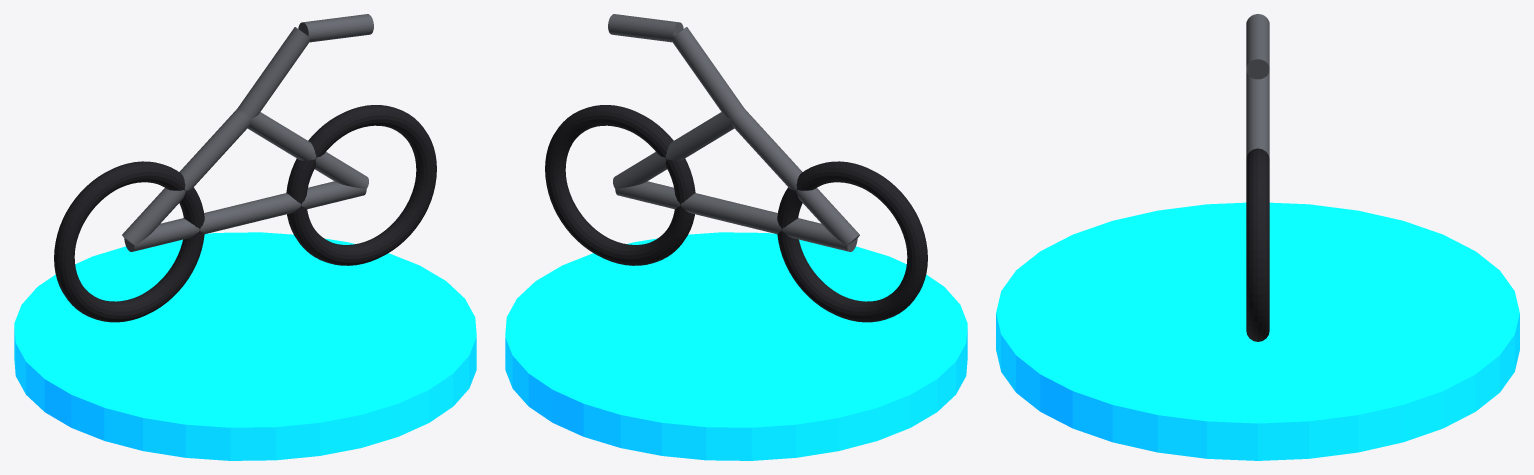
Rendered from french_bicycle.glb.
The picture shows the model from 3 angles, left to right: view 1: azimuth 30°, elevation 25°; view 2: azimuth 150°, elevation 25°; view 3: azimuth 270°, elevation 25°; orthographic projection. The views are drawn at different scales.
Visible parts, largest first — view 1: 10_09_Popular_French_Bicycle_ROOT_base, 10_09_Popular_French_Bicycle_part_01, 10_09_Popular_French_Bicycle_part_02, 10_09_Popular_French_Bicycle_part_05, 10_09_Popular_French_Bicycle_part_03, 10_09_Popular_French_Bicycle_part_04, 10_09_Popular_French_Bicycle_part_06, 10_09_Popular_French_Bicycle_part_07; view 2: 10_09_Popular_French_Bicycle_ROOT_base, 10_09_Popular_French_Bicycle_part_01, 10_09_Popular_French_Bicycle_part_02, 10_09_Popular_French_Bicycle_part_05, 10_09_Popular_French_Bicycle_part_03, 10_09_Popular_French_Bicycle_part_04, 10_09_Popular_French_Bicycle_part_06, 10_09_Popular_French_Bicycle_part_07; view 3: 10_09_Popular_French_Bicycle_ROOT_base, 10_09_Popular_French_Bicycle_part_02, 10_09_Popular_French_Bicycle_part_04, 10_09_Popular_French_Bicycle_part_07.
Boxes of the visible parts, bbox=[...] form: 10_09_Popular_French_Bicycle_ROOT_base: bbox=[14, 232, 476, 460]; 10_09_Popular_French_Bicycle_part_01: bbox=[54, 161, 204, 322]; 10_09_Popular_French_Bicycle_part_02: bbox=[286, 105, 436, 265]; 10_09_Popular_French_Bicycle_part_05: bbox=[124, 181, 366, 251]; 10_09_Popular_French_Bicycle_part_03: bbox=[122, 108, 250, 245]; 10_09_Popular_French_Bicycle_part_04: bbox=[247, 112, 368, 188]; 10_09_Popular_French_Bicycle_part_06: bbox=[237, 27, 309, 118]; 10_09_Popular_French_Bicycle_part_07: bbox=[298, 14, 373, 42]; 10_09_Popular_French_Bicycle_ROOT_base: bbox=[505, 232, 967, 460]; 10_09_Popular_French_Bicycle_part_01: bbox=[777, 161, 927, 322]; 10_09_Popular_French_Bicycle_part_02: bbox=[545, 105, 695, 265]; 10_09_Popular_French_Bicycle_part_05: bbox=[615, 181, 857, 251]; 10_09_Popular_French_Bicycle_part_03: bbox=[731, 108, 859, 245]; 10_09_Popular_French_Bicycle_part_04: bbox=[613, 112, 734, 188]; 10_09_Popular_French_Bicycle_part_06: bbox=[672, 27, 744, 118]; 10_09_Popular_French_Bicycle_part_07: bbox=[608, 14, 683, 42]; 10_09_Popular_French_Bicycle_ROOT_base: bbox=[996, 202, 1519, 460]; 10_09_Popular_French_Bicycle_part_02: bbox=[1246, 148, 1269, 341]; 10_09_Popular_French_Bicycle_part_04: bbox=[1246, 72, 1269, 158]; 10_09_Popular_French_Bicycle_part_07: bbox=[1246, 14, 1269, 79].
Bounding box in the file's own units: 0.76 × 0.5893 × 0.76.
